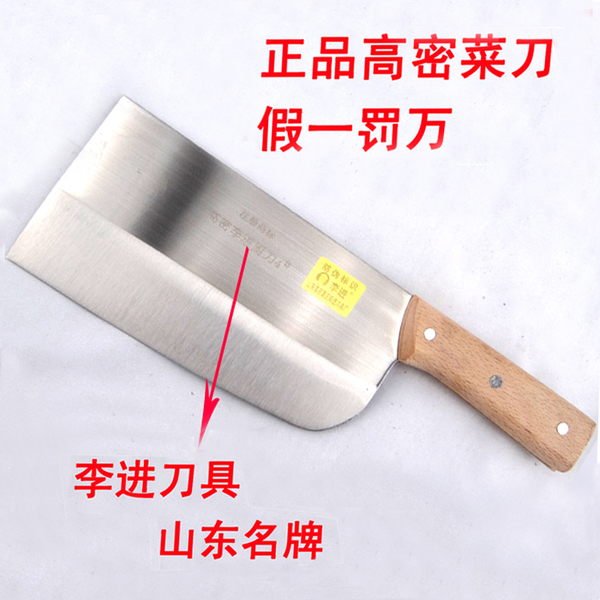knief: (22, 97, 600, 456)
